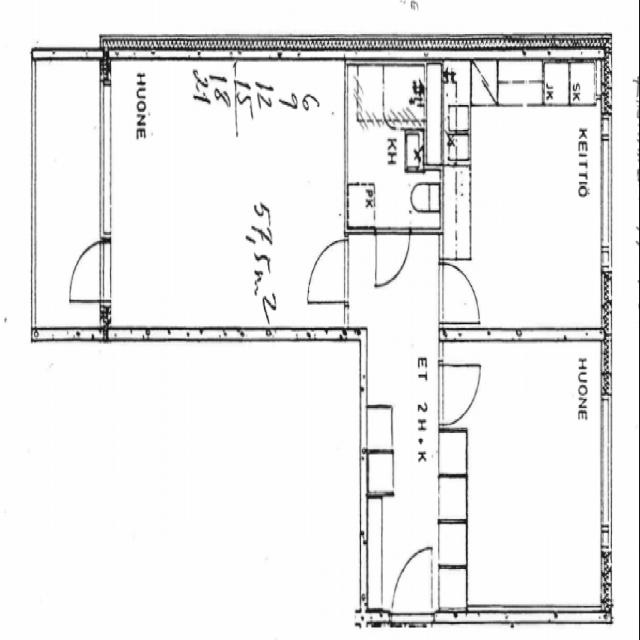door: (392, 545, 432, 622), (64, 242, 111, 301), (307, 240, 348, 302), (440, 263, 480, 323), (440, 365, 480, 425), (376, 228, 409, 290)
